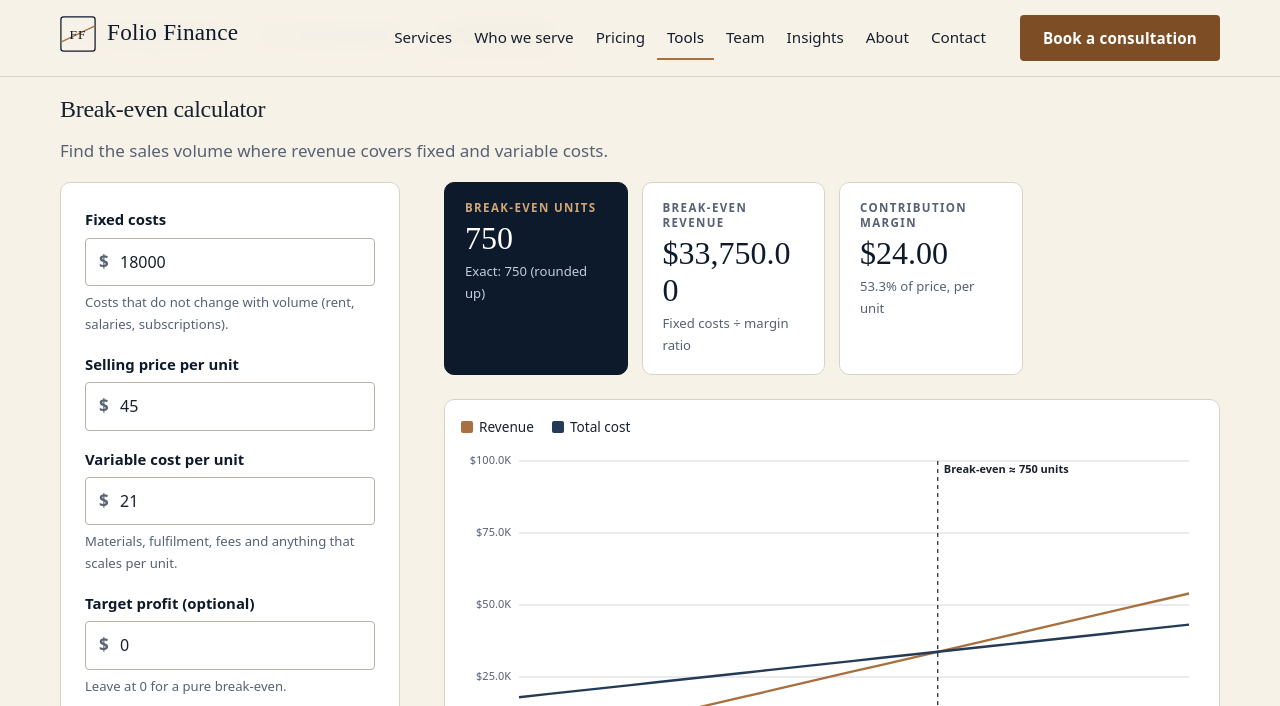
Scenario: calculators › break-even: computes, validates and flags impossible scenarios
(page scrolled)
Expected: the text with test id "be-units" reads "750", [465, 220, 513, 256]
Expected: the text with test id "be-revenue" reads "$33,750.00", [662, 235, 790, 308]
Replace the text in the field labelled "Selling price per unit" with "15" at (230, 406), box [85, 382, 375, 430]
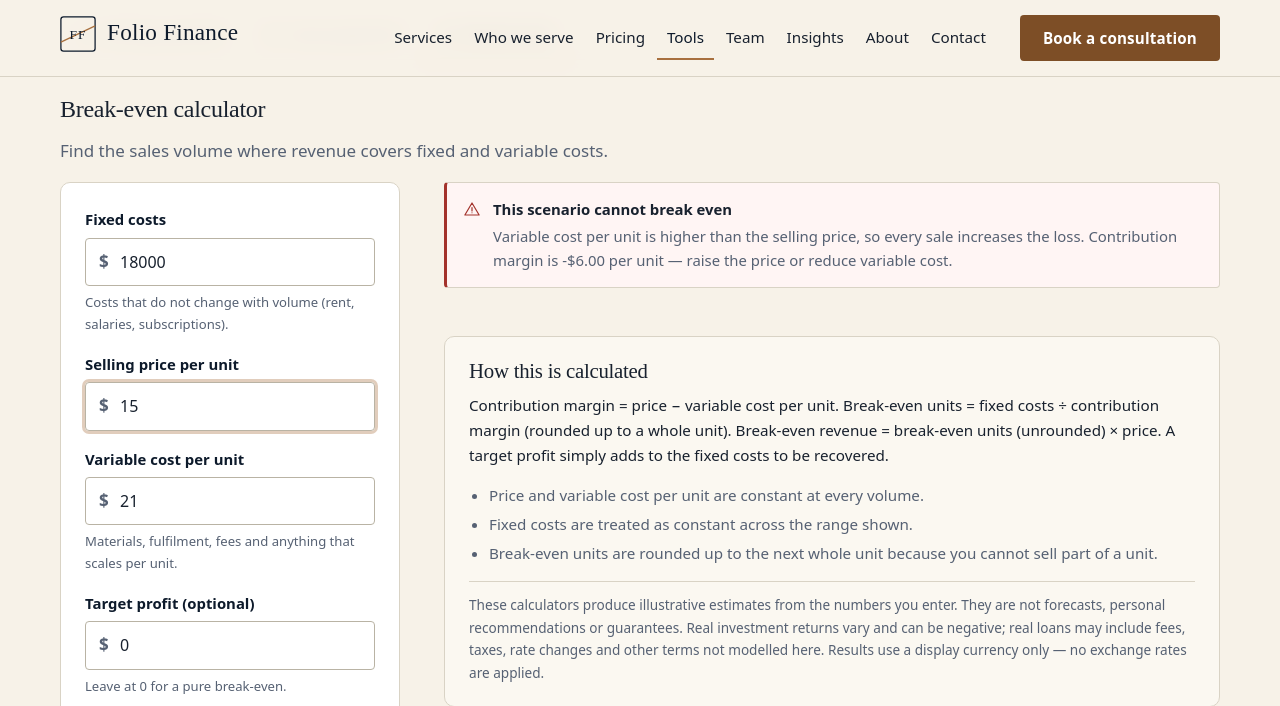
Expected: the message shows "cannot break even", [493, 199, 732, 219]
Replace the text in the field labelled "Selling price per unit" with "abc" at (230, 406), box [85, 382, 375, 430]
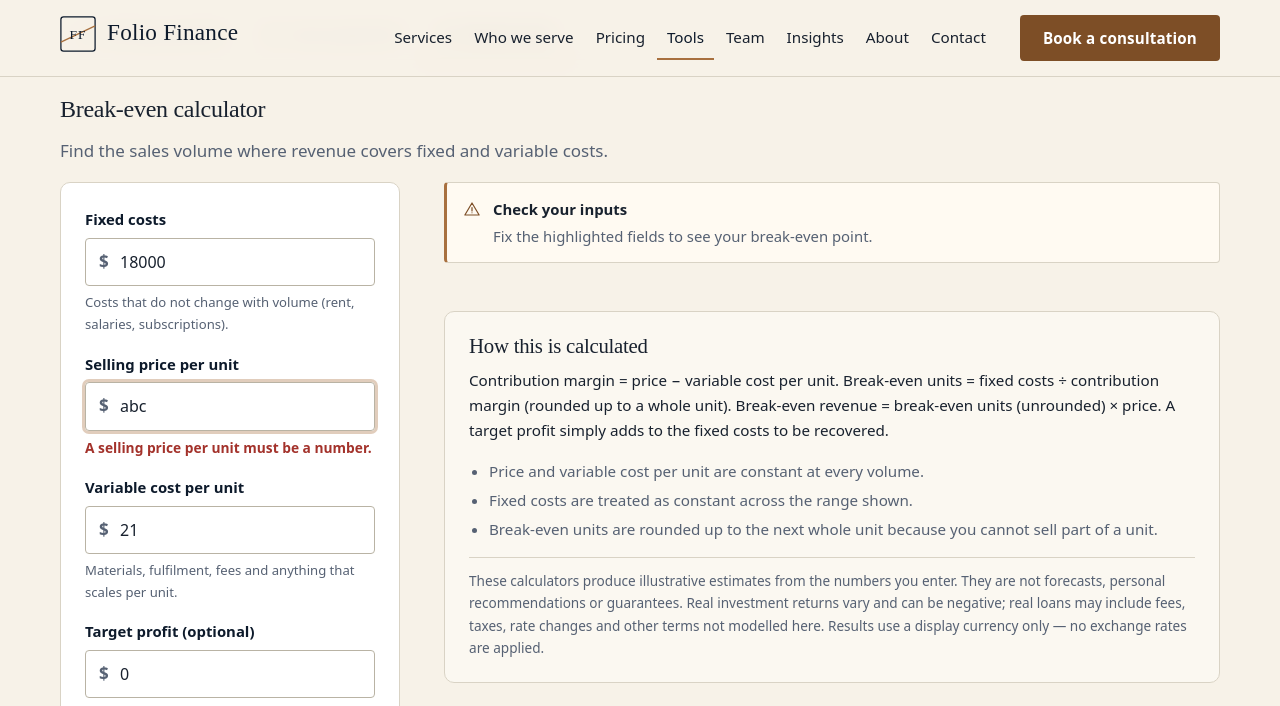
Expected: the text "A selling price per unit must be a number." is shown, [85, 436, 375, 459]
